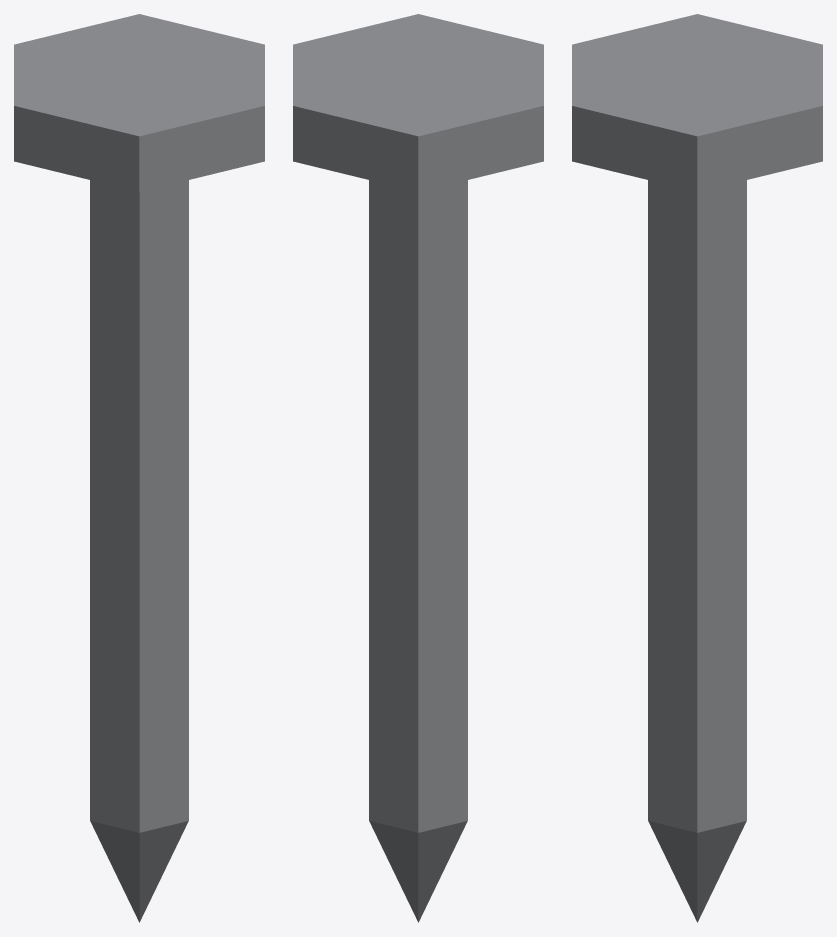
The model's file is SM_Item_Nail_02.fbx.
The picture shows the model from 3 angles, left to right: view 1: azimuth 30°, elevation 25°; view 2: azimuth 150°, elevation 25°; view 3: azimuth 270°, elevation 25°; orthographic projection.
Parts seen in each view (by area): view 1: SM_Item_Nail_02; view 2: SM_Item_Nail_02; view 3: SM_Item_Nail_02.
Part boxes in pixels (x1=…): SM_Item_Nail_02: x1=14, y1=14, x2=264, y2=922; SM_Item_Nail_02: x1=293, y1=14, x2=543, y2=922; SM_Item_Nail_02: x1=572, y1=14, x2=822, y2=922.
Bounding box in the file's own units: 3.87 × 12.51 × 3.35.
